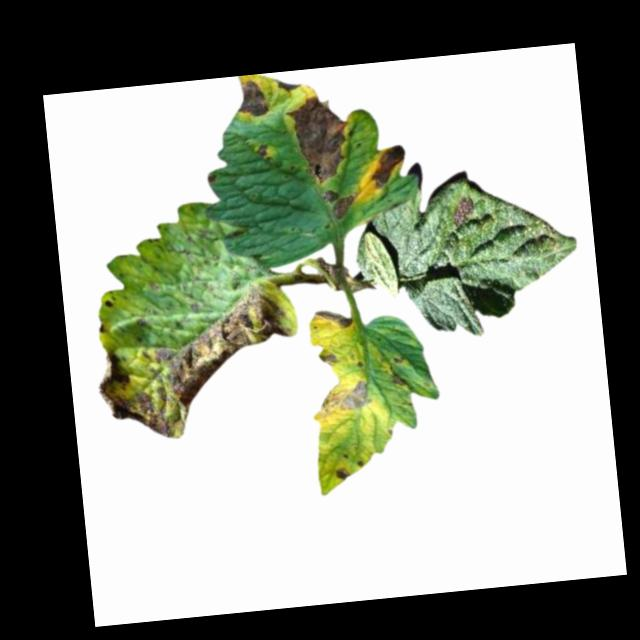Early_blight: (88, 276, 309, 447), (283, 90, 355, 188), (316, 376, 375, 415), (363, 144, 409, 190), (233, 77, 270, 119), (320, 187, 356, 220), (314, 304, 354, 330), (449, 192, 476, 225), (273, 75, 302, 92), (391, 368, 410, 389), (253, 141, 270, 162), (334, 463, 350, 482), (319, 349, 337, 365)
